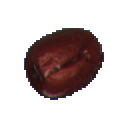ng: (17, 22, 112, 107)
